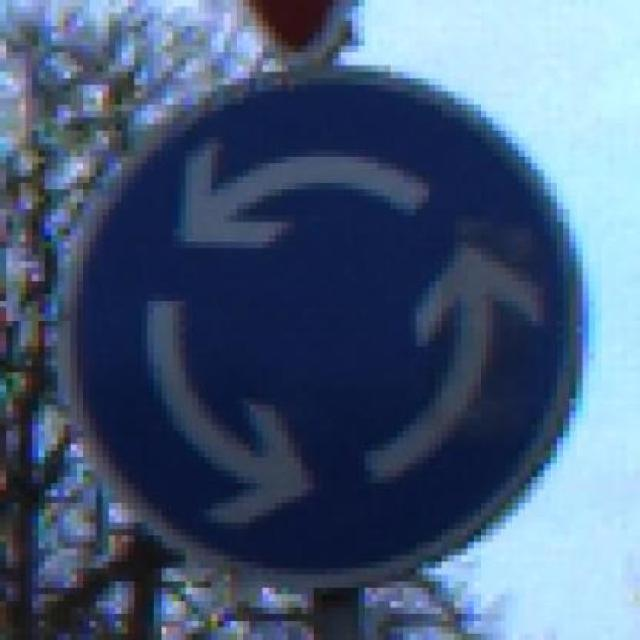Round-About: (45, 59, 608, 602)
